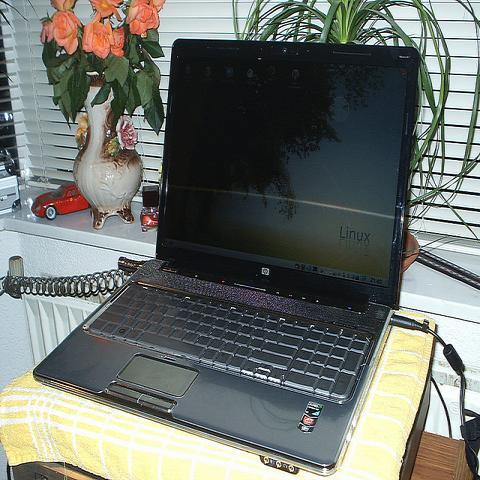car: (30, 182, 90, 222)
